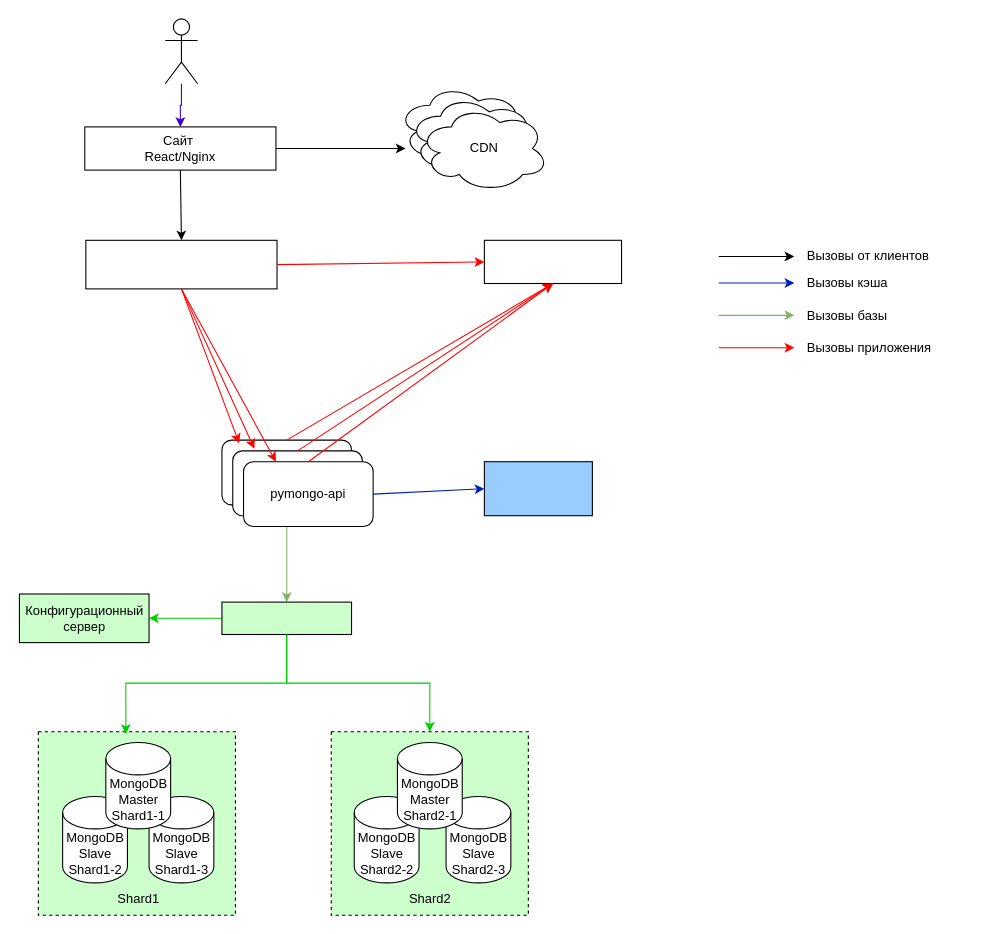
This 1007x934 diagram has some shape labels left out. Here are the shapes that lost their labels. From the top down, the centre of each, then its label:
At (181,51): "Actor".
At (181,264): "API".
At (552,261): "Consul".
At (537,488): "Redis".
At (286,617): "Роутер".
